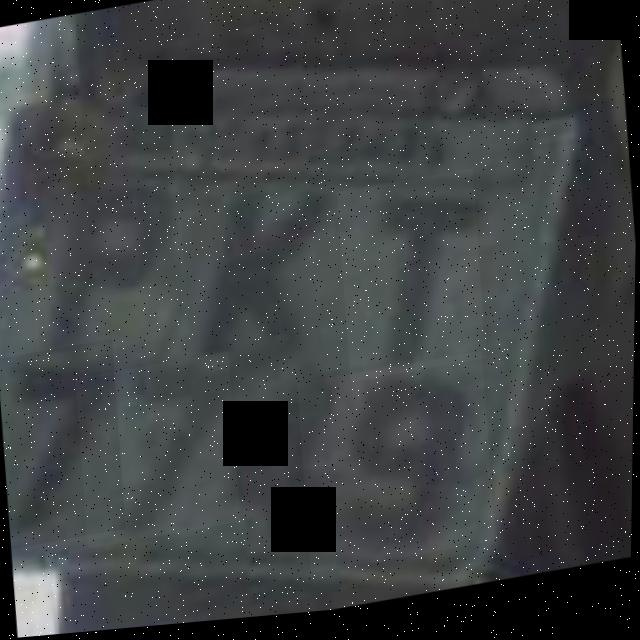4: (179, 349, 382, 558)
7: (75, 354, 244, 551), (0, 340, 129, 550)
9: (296, 358, 499, 580)
P: (22, 150, 193, 362)
T: (335, 176, 489, 389)
